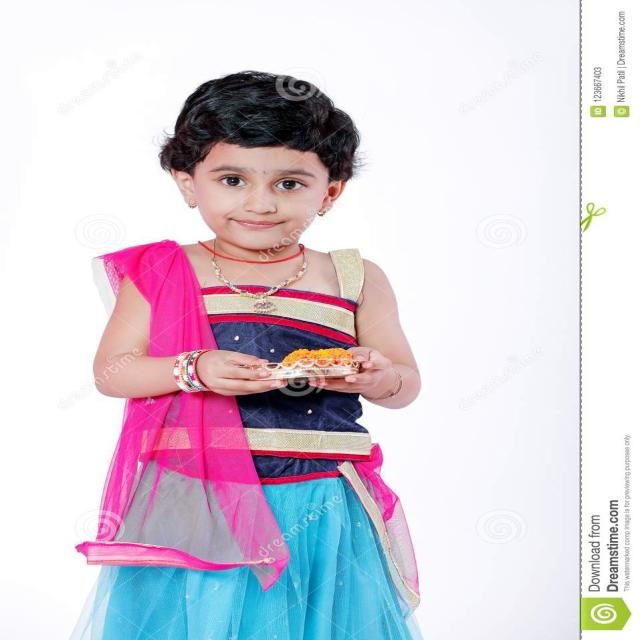child: (88, 69, 451, 629)
